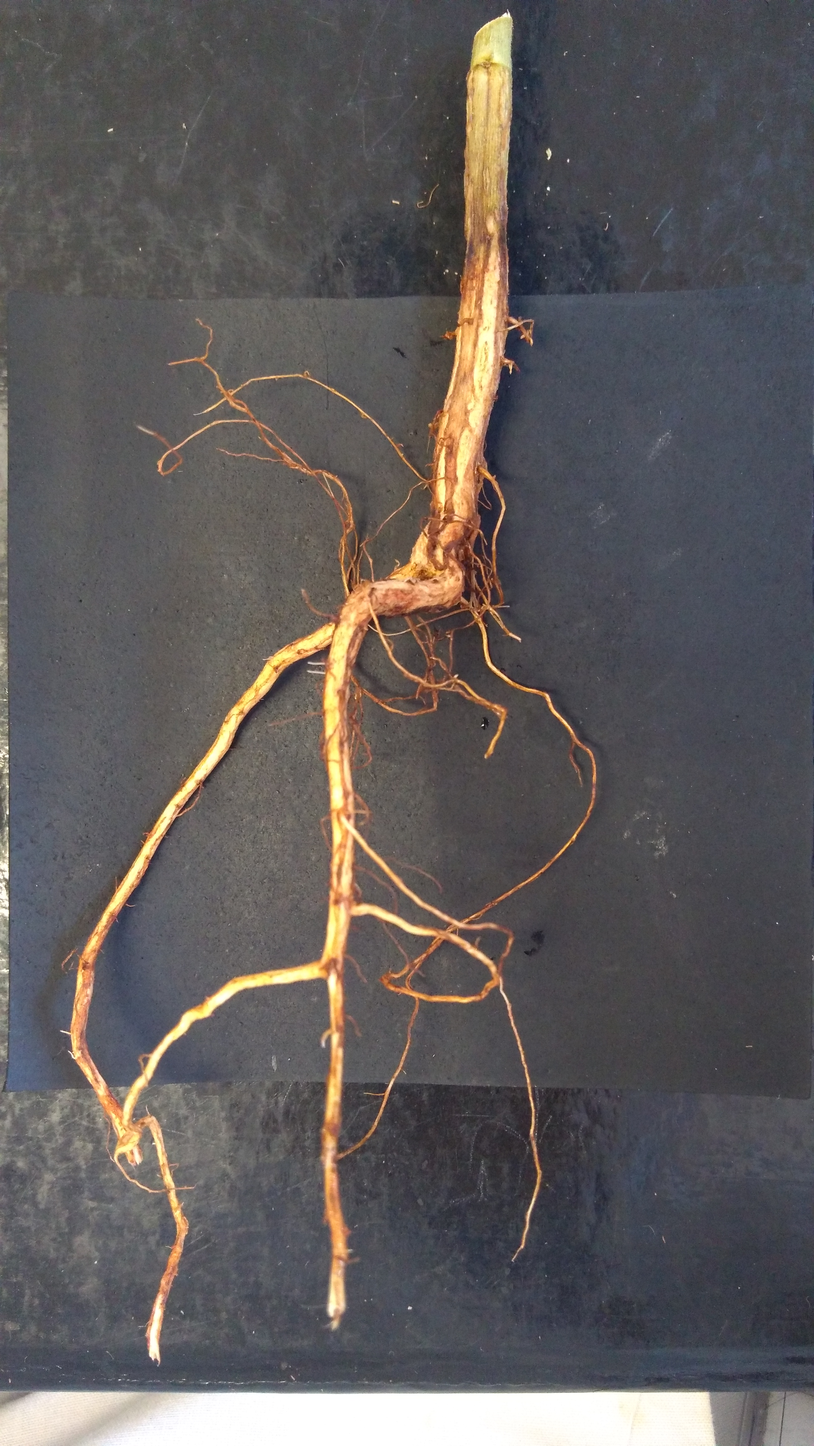nodule: (457, 540, 473, 566), (429, 500, 444, 512), (444, 330, 454, 340), (427, 422, 433, 428)
